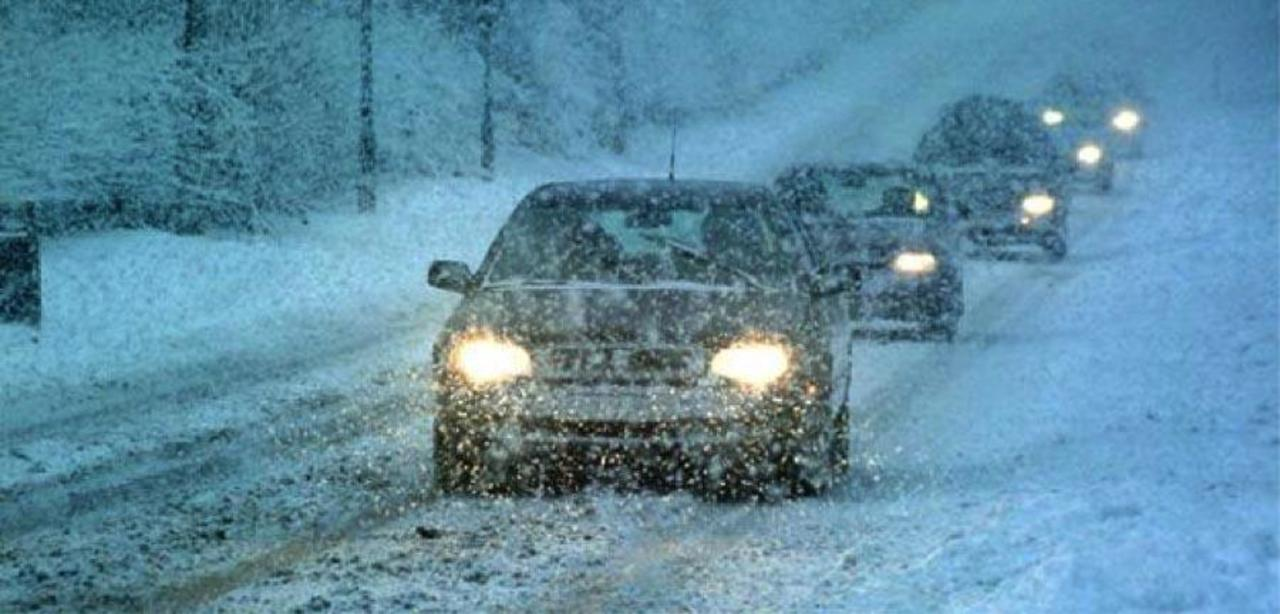car: (432, 175, 846, 488), (778, 156, 963, 344), (917, 111, 1069, 261), (1018, 101, 1114, 192), (1044, 79, 1144, 158)
